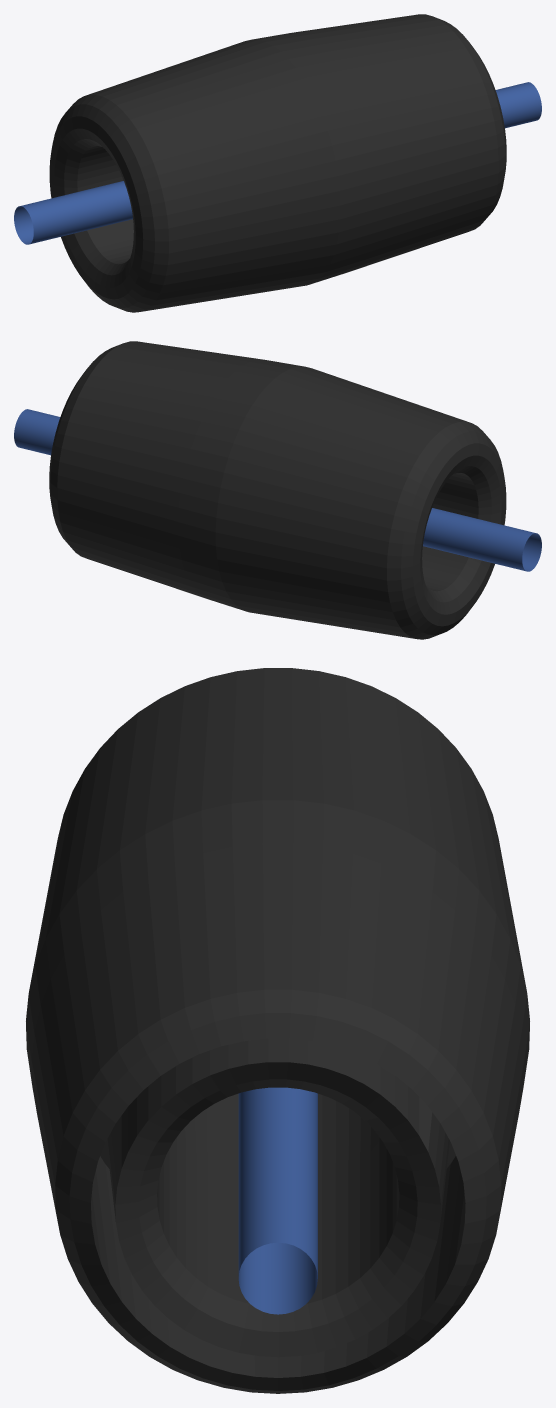
The model's file is generator.fbx.
The picture shows the model from 3 angles, top to bottom: view 1: azimuth 30°, elevation 25°; view 2: azimuth 150°, elevation 25°; view 3: azimuth 270°, elevation 25°; orthographic projection. The views are drawn at different scales.
Visible parts, largest first — view 1: generator_good.001, basic_wire.002; view 2: generator_good.001, basic_wire.002; view 3: generator_good.001, basic_wire.002.
Part boxes in pixels (box(x1,y1,x2,y2)): generator_good.001: box(49, 14, 506, 312); basic_wire.002: box(14, 82, 541, 244); generator_good.001: box(49, 341, 506, 639); basic_wire.002: box(14, 409, 541, 571); generator_good.001: box(26, 668, 529, 1393); basic_wire.002: box(238, 1087, 317, 1314).
Size of the model in its own units: 296 by 127 by 127.
